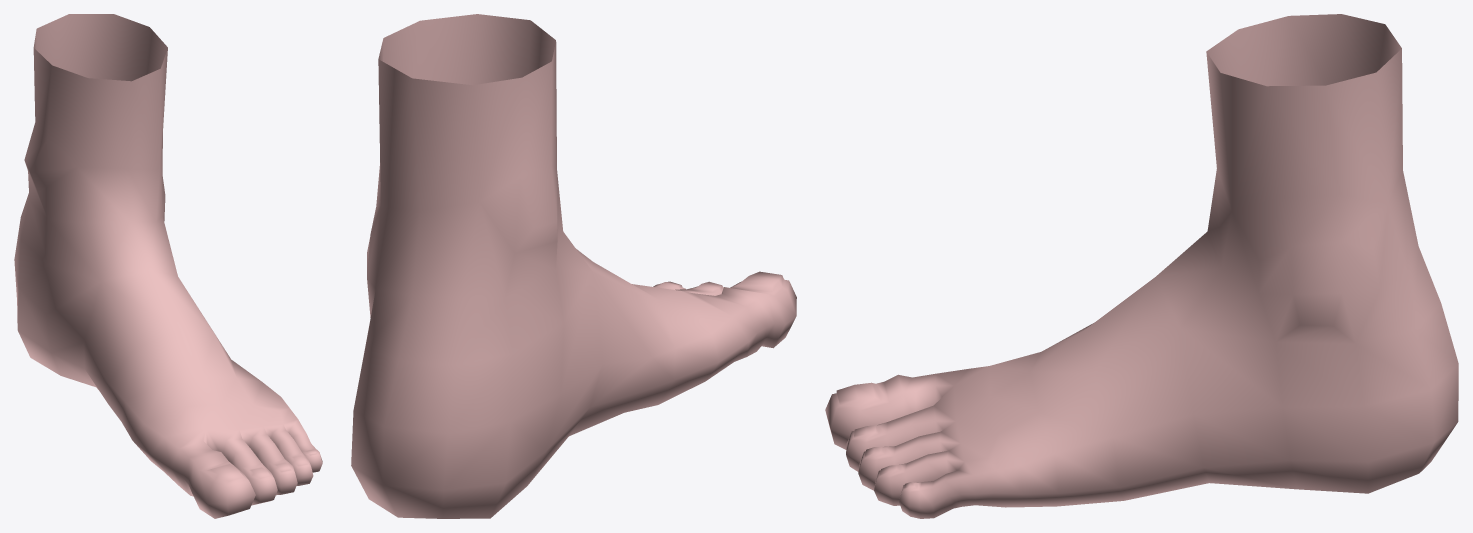
File: Superhero_Male_Foot01.fbx
The picture shows the model from 3 angles, left to right: view 1: azimuth 30°, elevation 25°; view 2: azimuth 150°, elevation 25°; view 3: azimuth 270°, elevation 25°; orthographic projection. The views are drawn at different scales.
Visible parts, largest first — view 1: Superhero_Male_Foot01; view 2: Superhero_Male_Foot01; view 3: Superhero_Male_Foot01.
Boxes of the visible parts, left/top/right/bottom form: Superhero_Male_Foot01: left=14, top=14, right=322, bottom=518; Superhero_Male_Foot01: left=351, top=14, right=796, bottom=518; Superhero_Male_Foot01: left=825, top=14, right=1458, bottom=518.
Size of the model in its own units: 0.6716 by 1.39 by 1.83.
